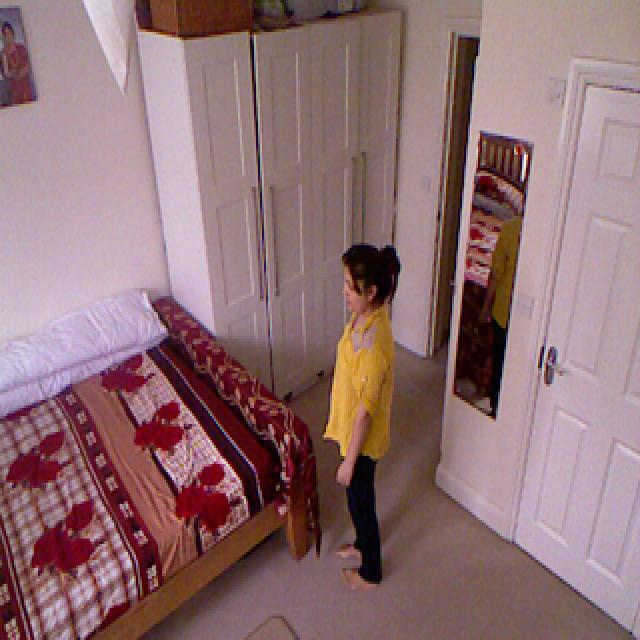standing: (328, 242, 397, 588)
